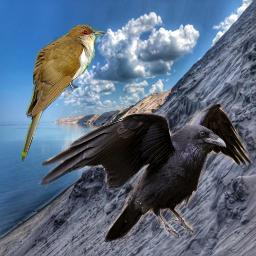Crow: (38, 102, 253, 242)
Cuckoo: (21, 23, 105, 164)
